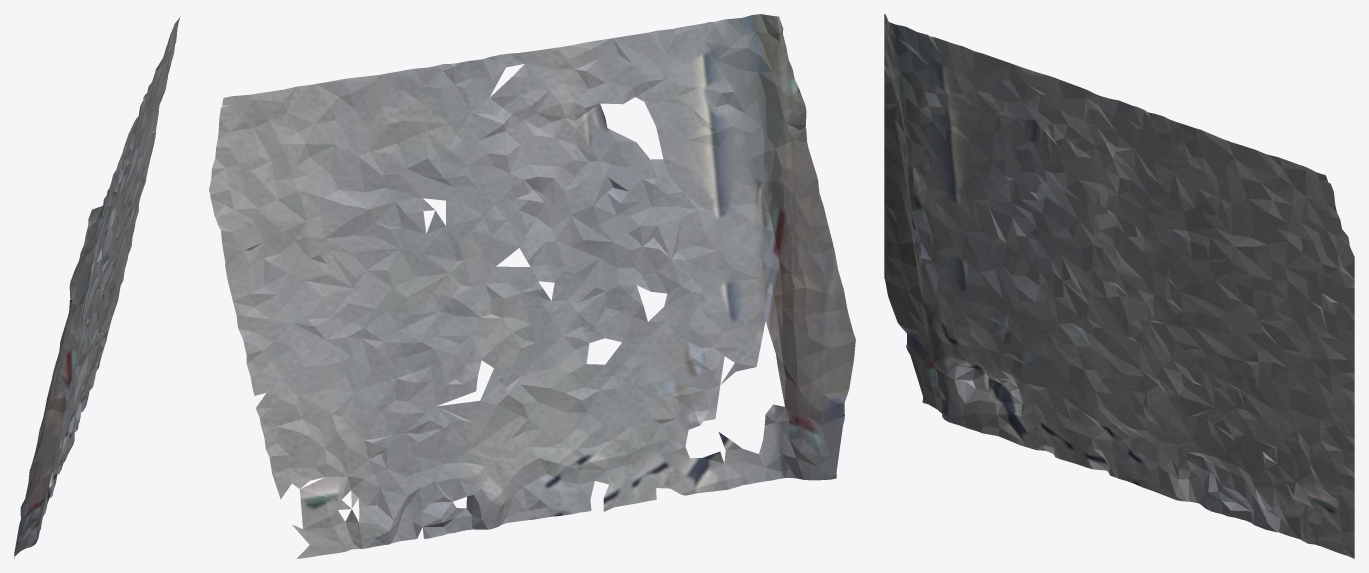
3 views of the same model, side by side, from view 1: azimuth 30°, elevation 25°; view 2: azimuth 150°, elevation 25°; view 3: azimuth 270°, elevation 25° (orthographic). The views are drawn at different scales.
Bounding box in the file's own units: 0.8374 × 0.8374 × 0.8373.
4 materials, 4 textured.
